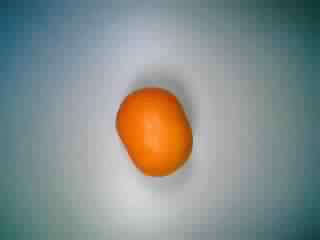orange: (111, 79, 194, 180)
